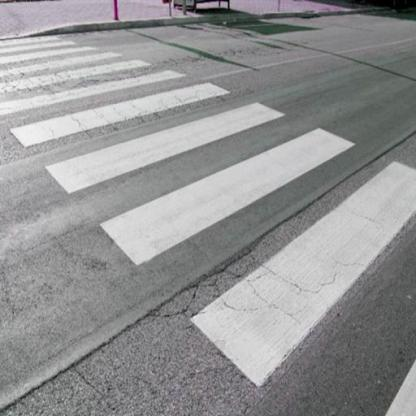crosswalk: (8, 79, 319, 201)
